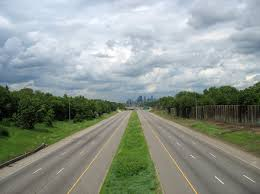strada: (0, 121, 258, 194)
